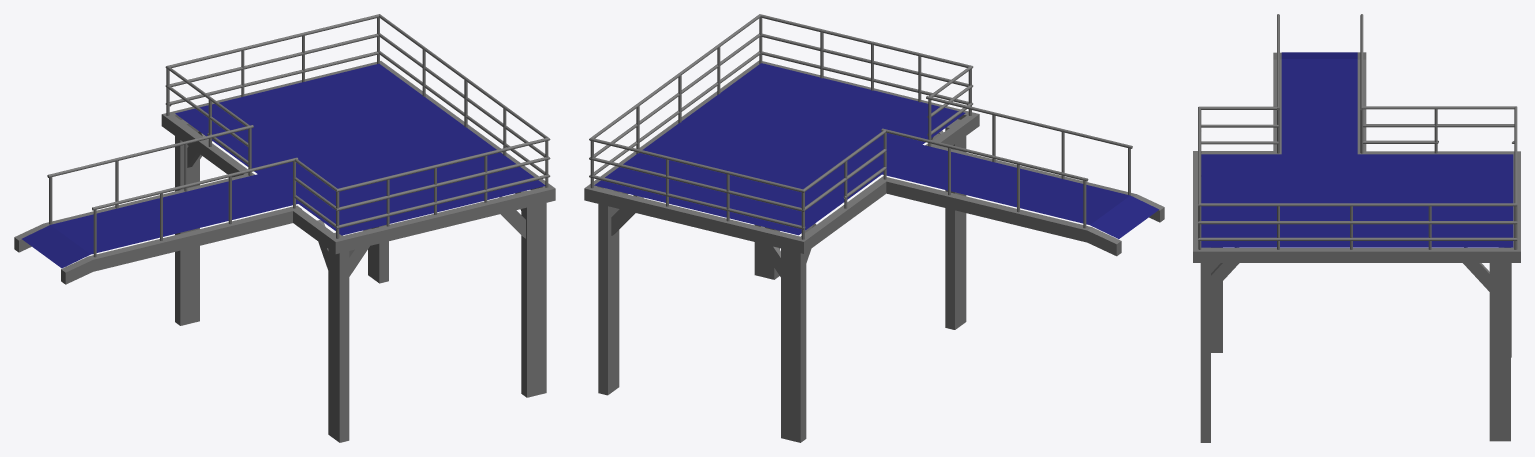
File: Platform_controller_v1.FBX
3 renders of one model, left to right at view 1: azimuth 30°, elevation 25°; view 2: azimuth 150°, elevation 25°; view 3: azimuth 270°, elevation 25°, orthographic. The views are drawn at different scales.
Visible parts, largest first — view 1: Platform_controller; view 2: Platform_controller; view 3: Platform_controller.
Boxes of the visible parts, <box> form: Platform_controller: <box>14,14,555,442</box>; Platform_controller: <box>584,14,1164,442</box>; Platform_controller: <box>1193,14,1520,442</box>.
Bounding box in the file's own units: 364 × 198 × 245.
